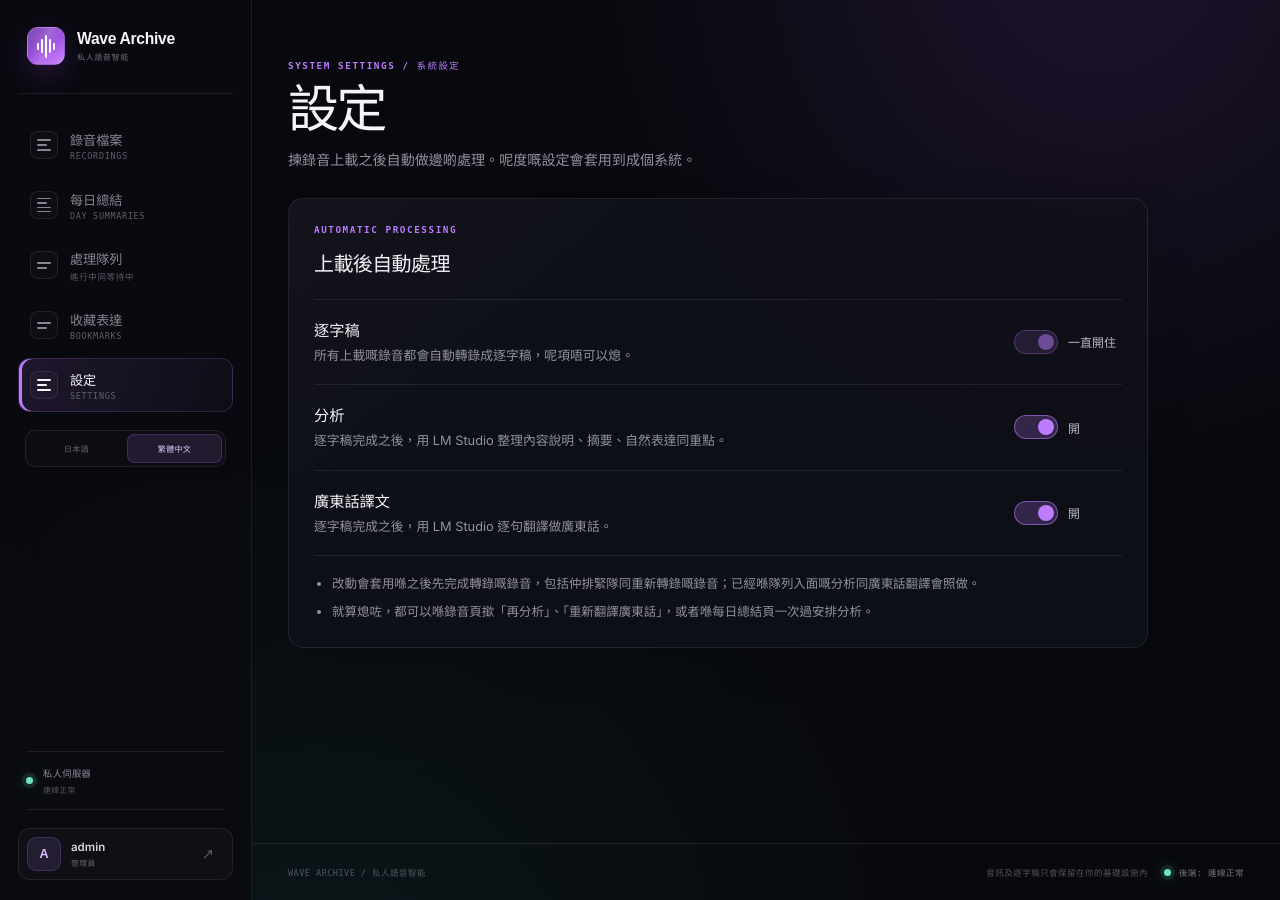
Test: settings page › sends only the switch that changed, with the CSRF token
This screenshot has width=1280, height=900.
Click the switch named "廣東話譯文" at point(1047, 513), box [1014,501,1080,525]
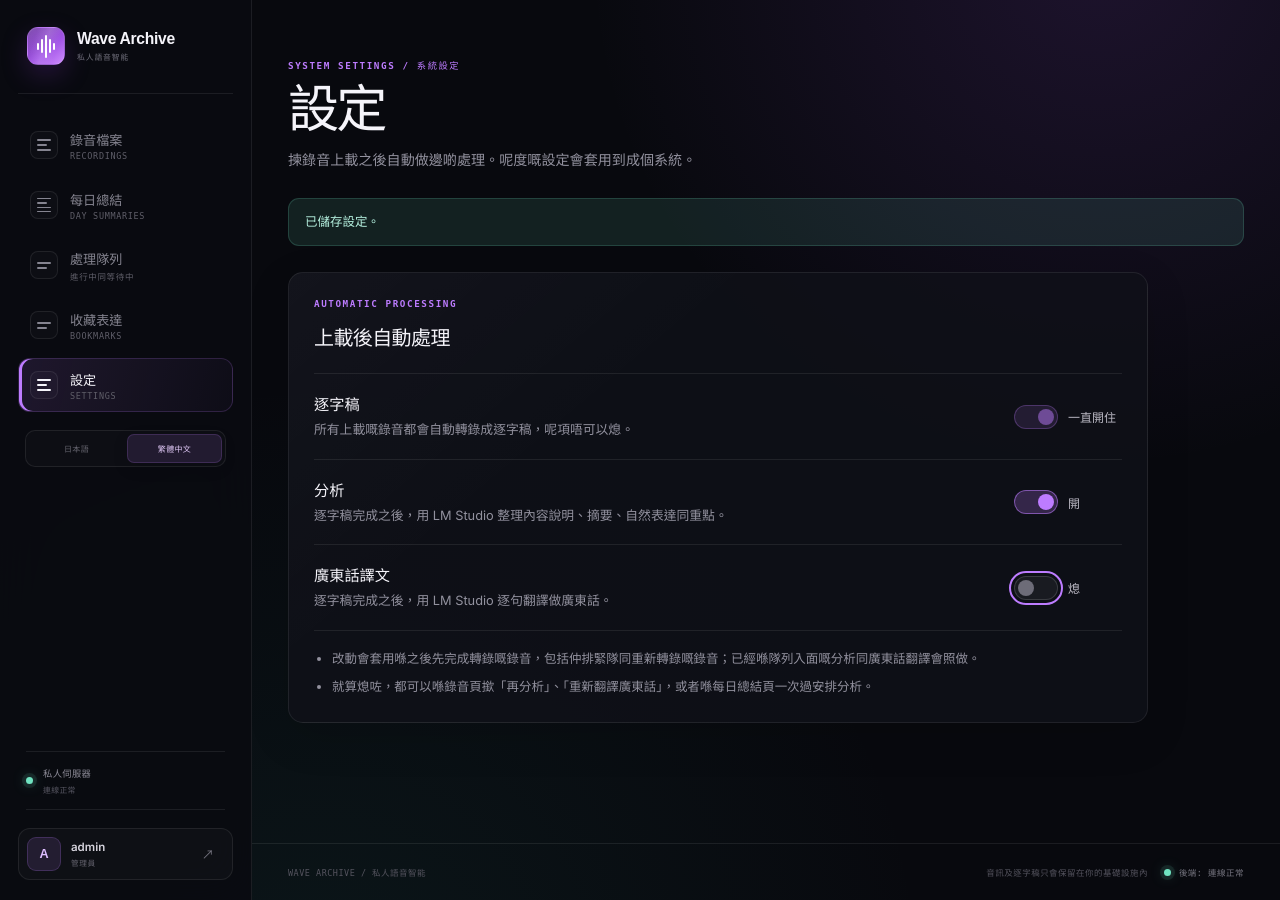
Expected: the switch named "分析" is checked, [1014,490,1080,514]
Now the switch named "廣東話譯文" is not checked, box [1014,576,1080,600]
Now the text "已儲存設定。" is shown, box [288,198,1244,246]
